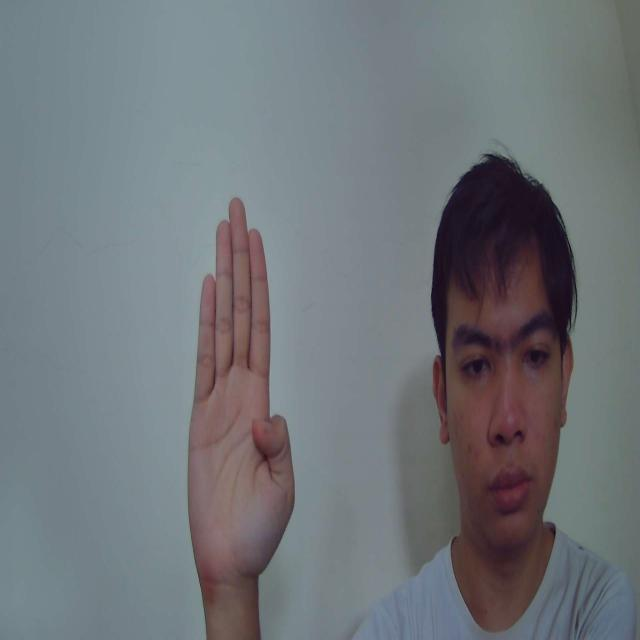B: (187, 198, 297, 572)
